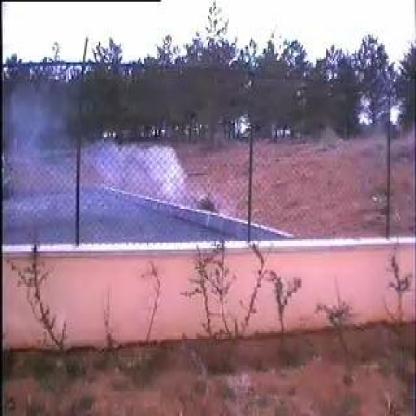-: (35, 104, 204, 241)
